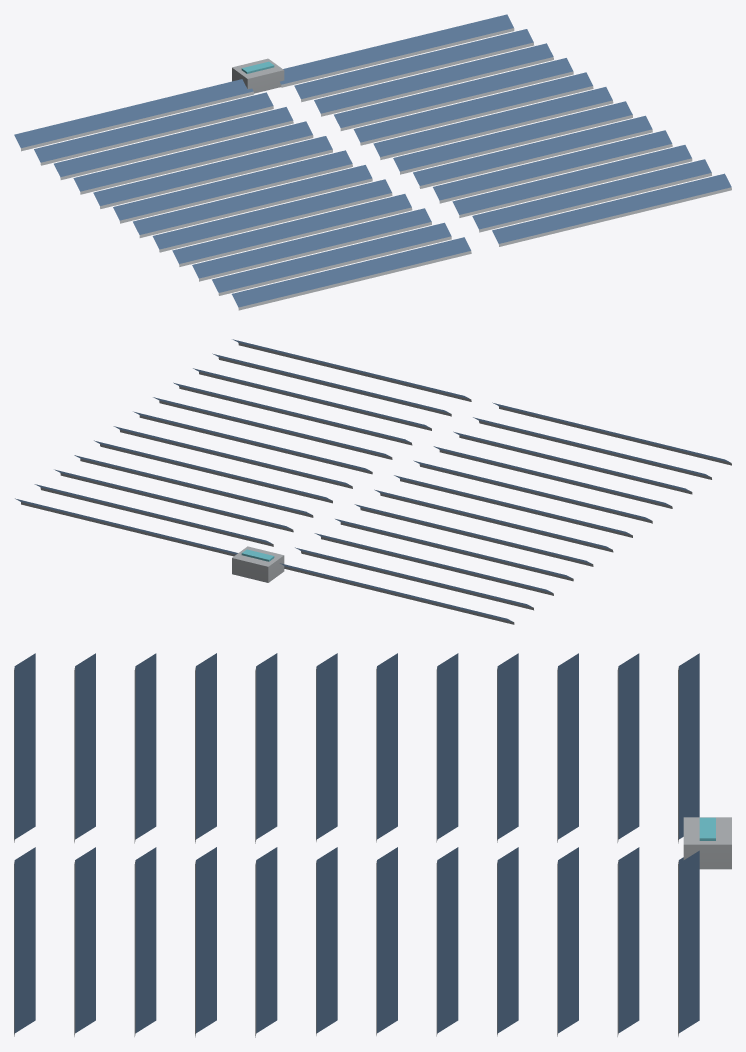
File: plant_solar_l3.glb
The picture shows the model from 3 angles, top to bottom: view 1: azimuth 30°, elevation 25°; view 2: azimuth 150°, elevation 25°; view 3: azimuth 270°, elevation 25°; orthographic projection. The views are drawn at different scales.
Visible parts, largest first — view 1: plant_solar_l3; view 2: plant_solar_l3; view 3: plant_solar_l3.
Part boxes in pixels (x1,y1,x2,y2): plant_solar_l3: (14,14,731,310); plant_solar_l3: (15,339,731,624); plant_solar_l3: (14,653,731,1037).
Size of the model in its own units: 108 by 3.8 by 89.2.
